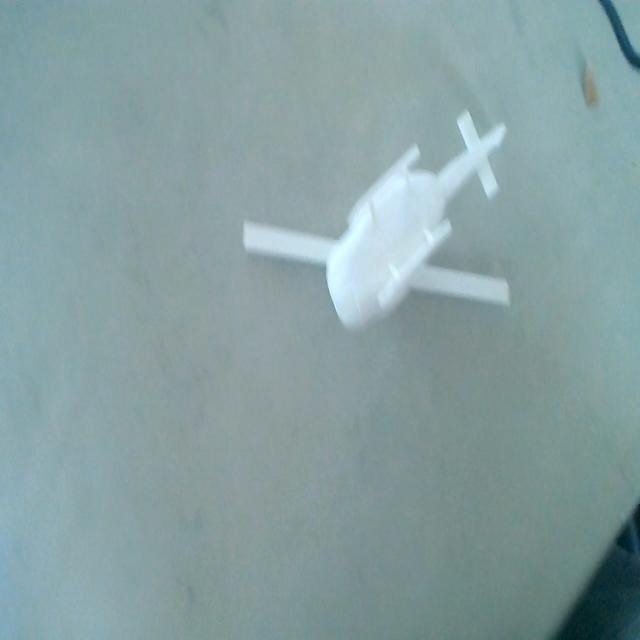Helicopter: (245, 121, 513, 330)
